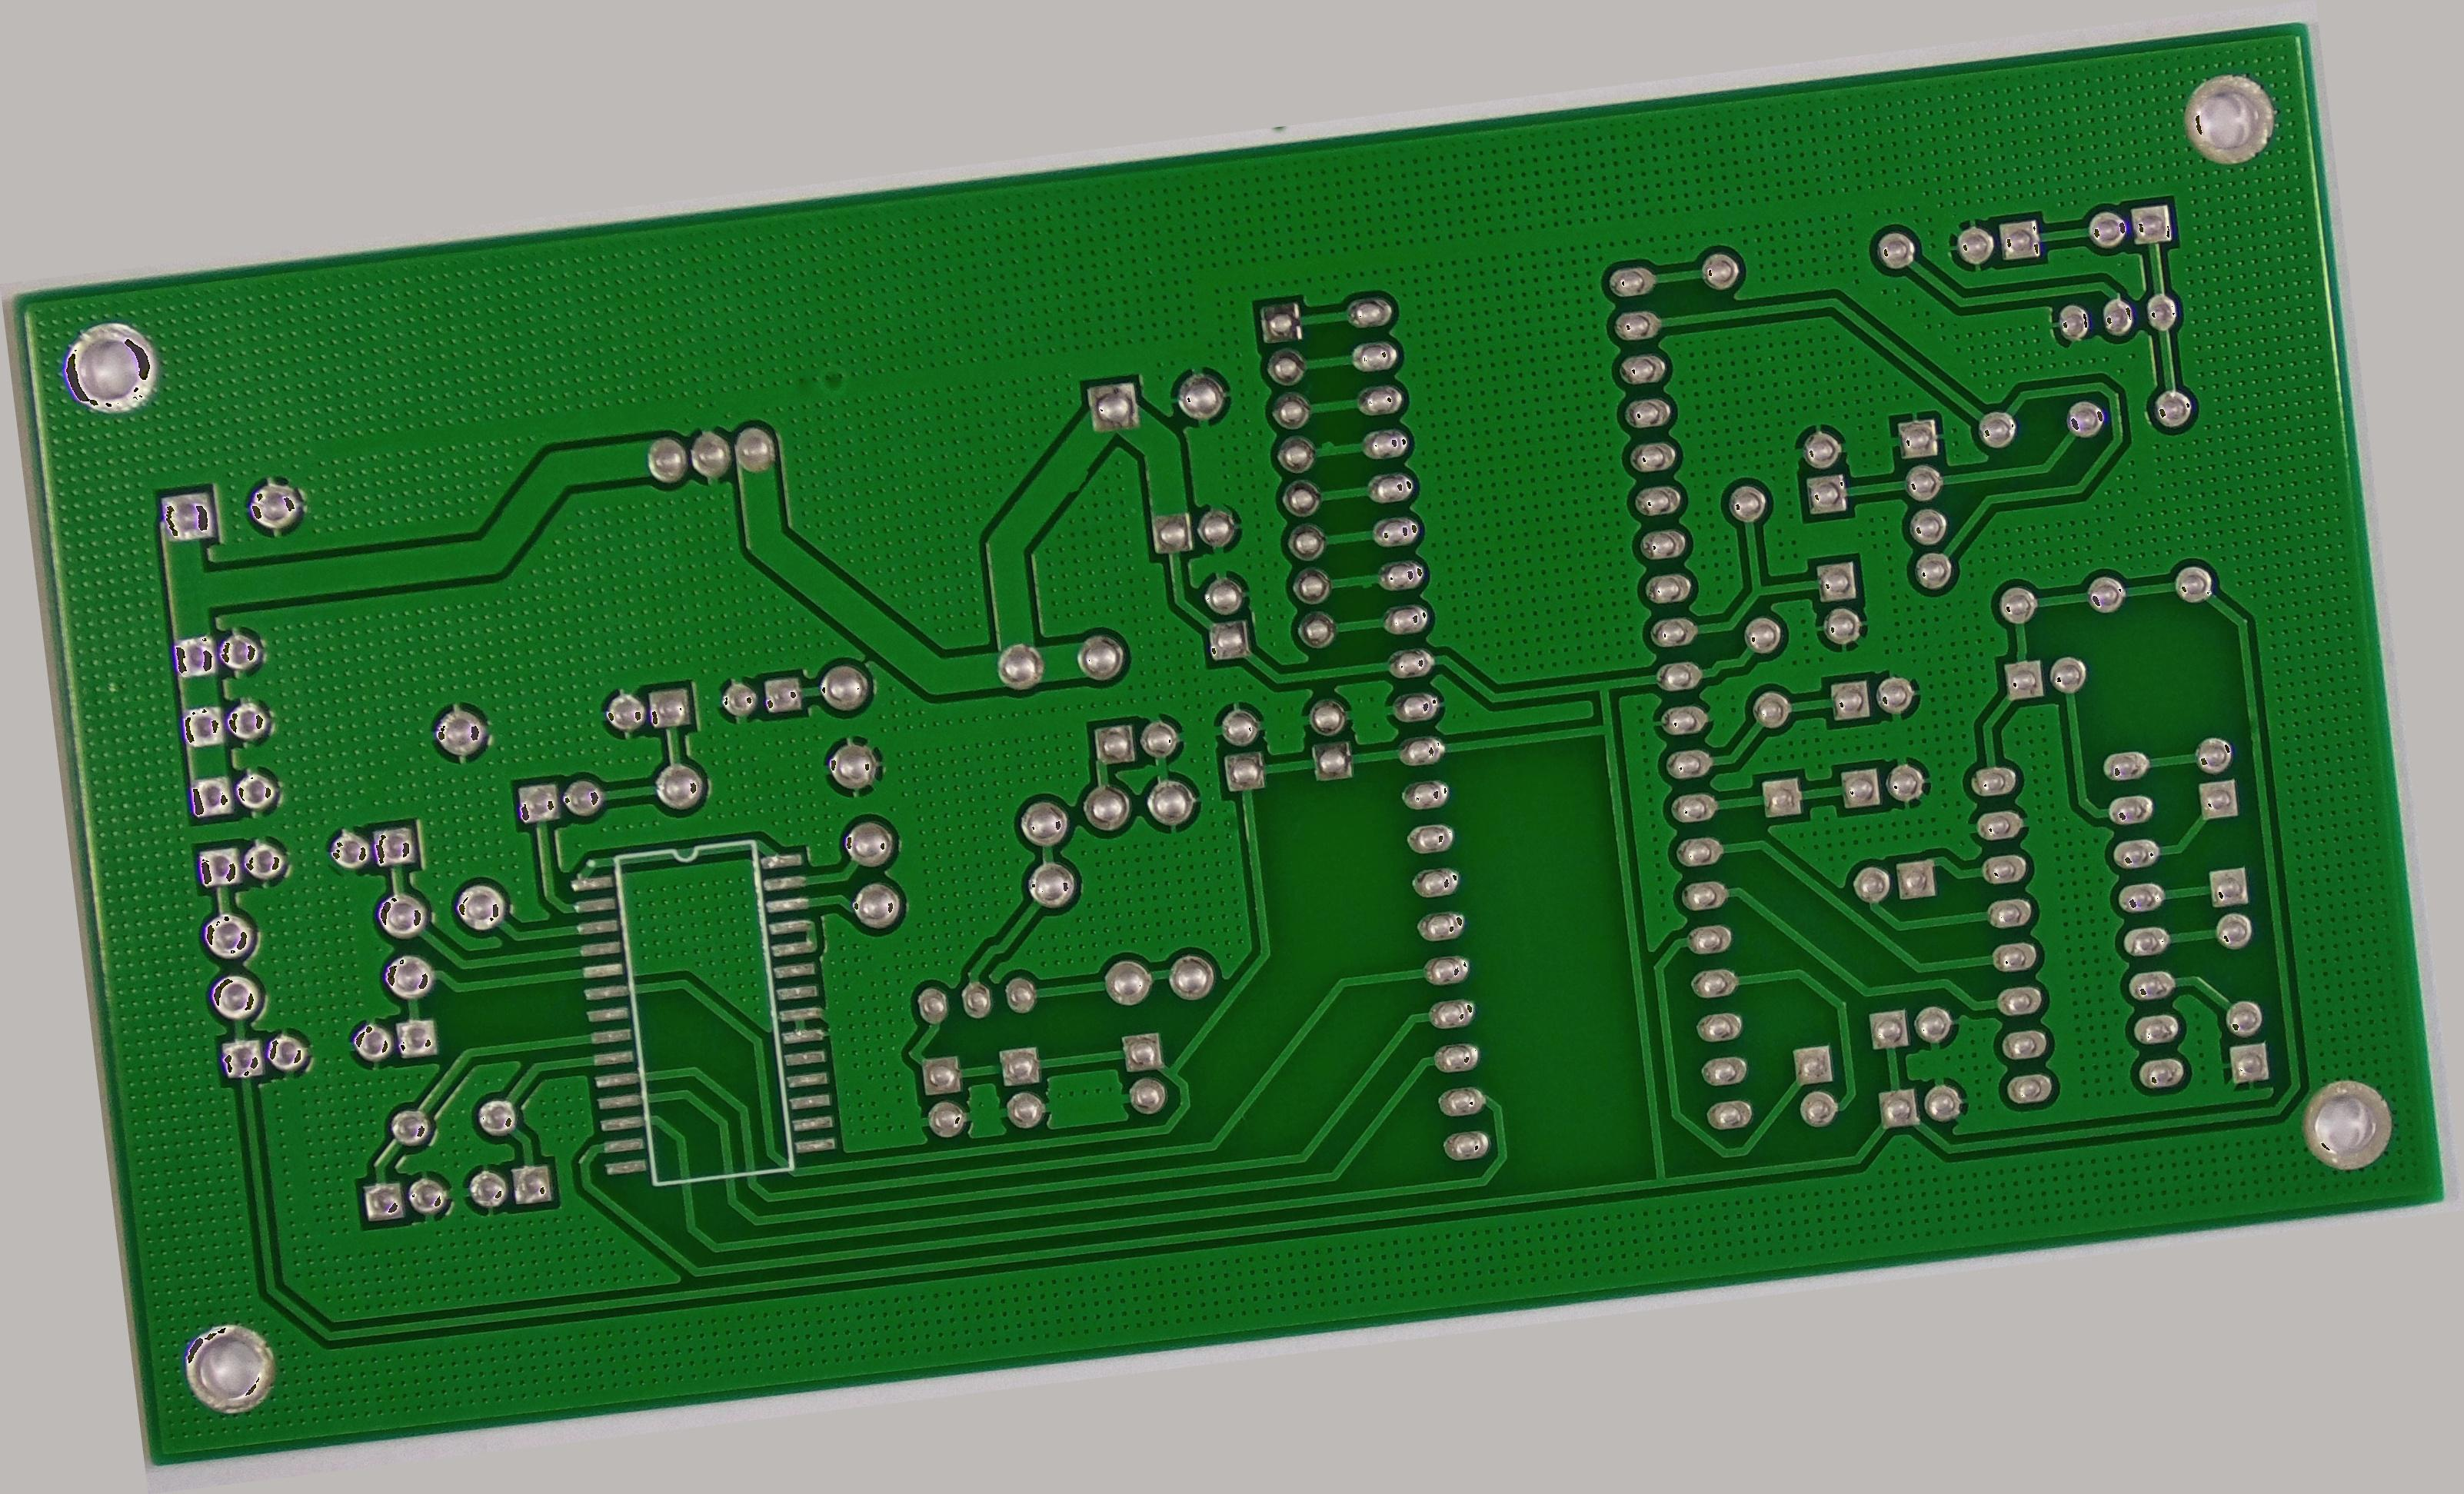spur: (1047, 450, 1109, 503), (1348, 561, 1383, 598), (1309, 429, 1345, 465)
